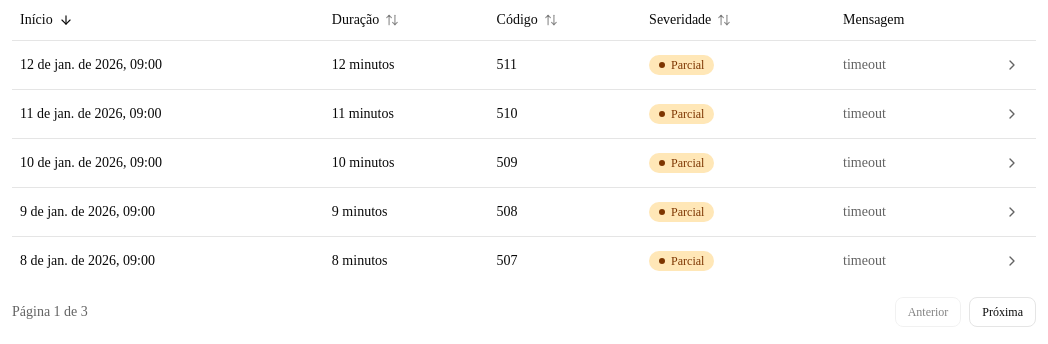
Scenario: IncidentsTable › paginates and disables Previous on the first page, Next on the last
This screenshot has width=1048, height=344.
Check: the text "Página 1 de 3" is shown, box [12,302,88,322]
Check: the button "Anterior" is disabled, box [895,296,961,326]
Click the button "Próxima" at [1003, 312], box [969,296,1036,326]
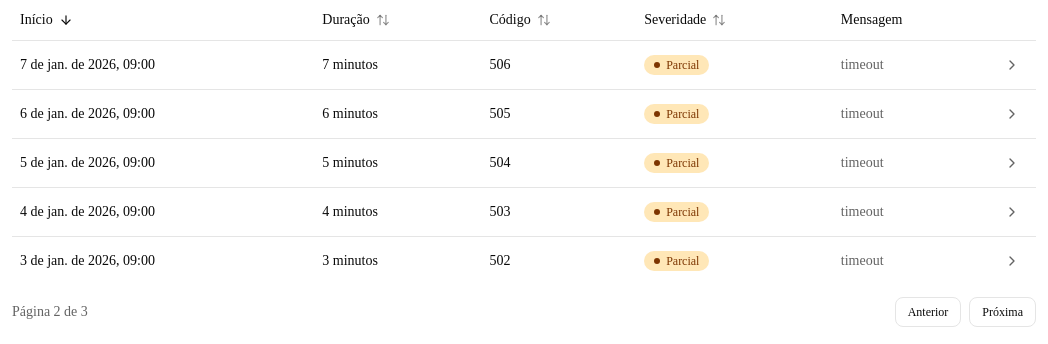
Check: the text "Página 2 de 3" is shown, box [12,302,88,322]
Check: the button "Anterior" is enabled, box [895,296,961,326]
Click the button "Próxima" at [1003, 312], box [969,296,1036,326]
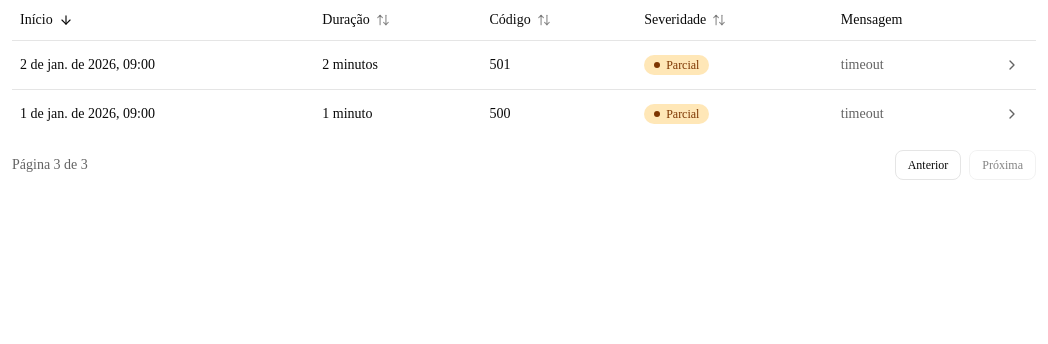
Check: the text "Página 3 de 3" is shown, box [12,154,88,174]
Check: the button "Próxima" is disabled, box [969,150,1036,180]
